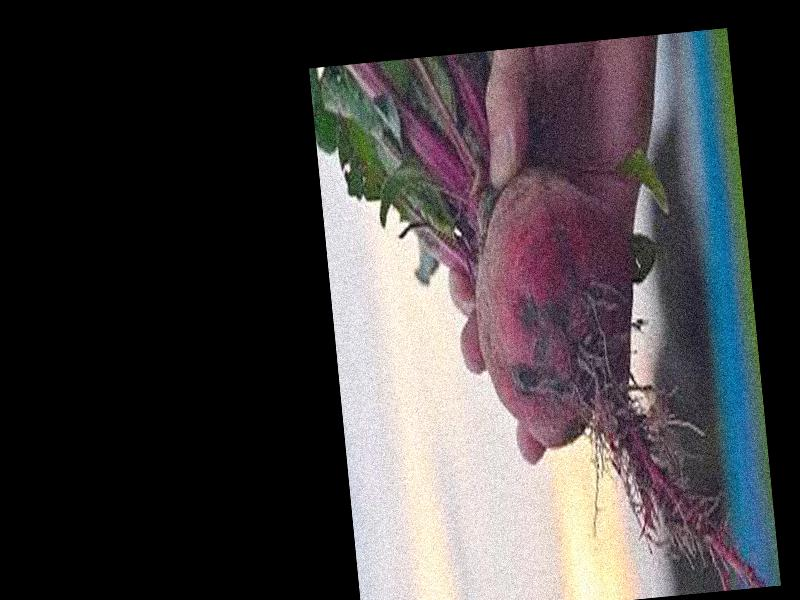Beet: (311, 33, 761, 600)
